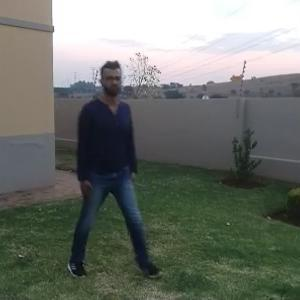follow: (73, 66, 133, 242)
